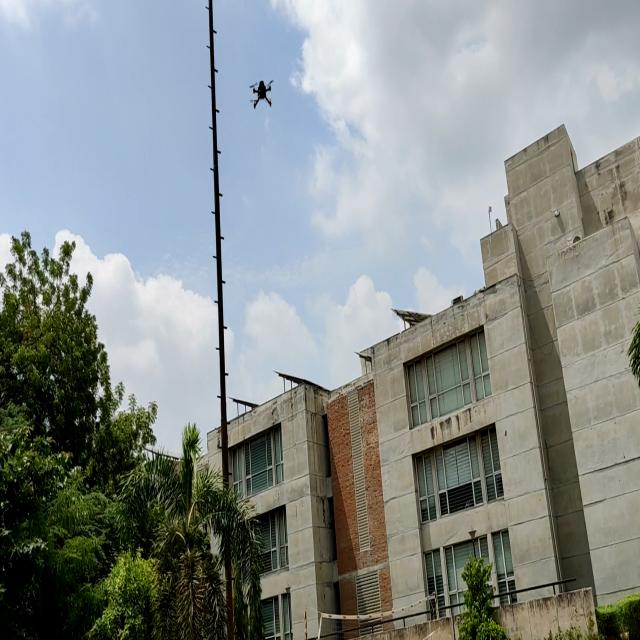drone: (244, 74, 278, 115)
